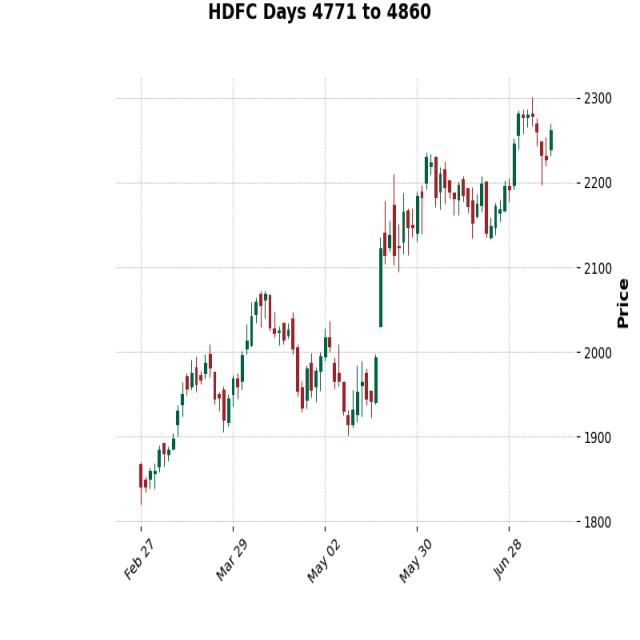Ascending Triangle: (362, 139, 488, 397)
